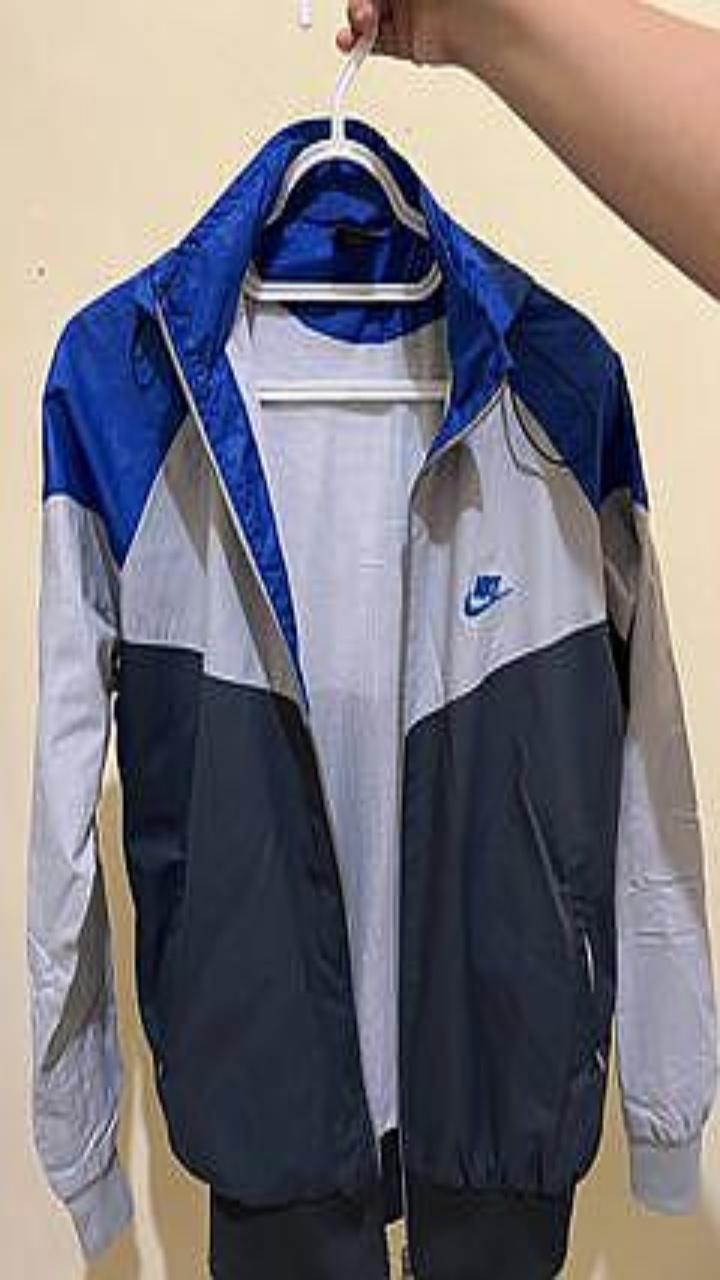Sports_Jacket: (27, 117, 716, 1279)
